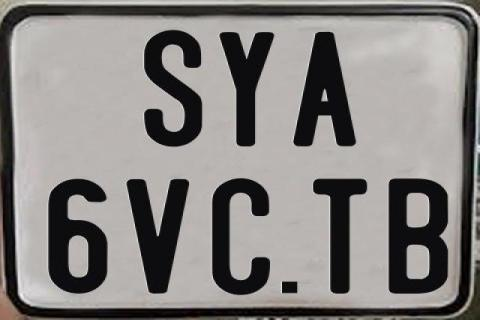0: (47, 176, 107, 296)
A: (292, 32, 357, 150)
B: (386, 178, 447, 296)
C: (212, 178, 274, 296)
S: (144, 28, 203, 150)
T: (313, 178, 372, 298)
V: (125, 178, 189, 292)
Y: (219, 30, 275, 148)
